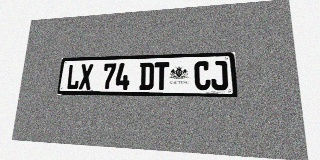4: (115, 63, 130, 90)
7: (101, 63, 116, 90)
C: (194, 61, 211, 90)
D: (139, 62, 154, 90)
J: (211, 61, 228, 90)
L: (66, 64, 81, 89)
T: (154, 62, 169, 90)
X: (79, 64, 93, 90)
